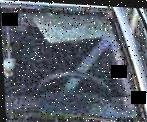seatbelt: (62, 30, 115, 91)
